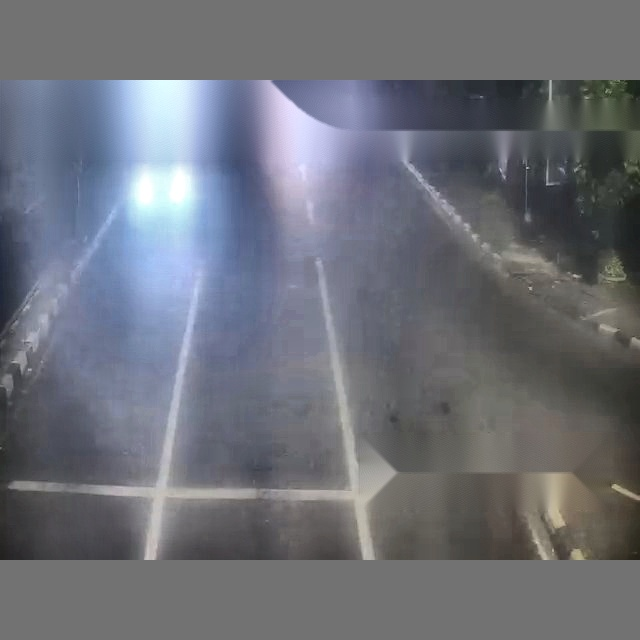Bis: (0, 80, 436, 552)
